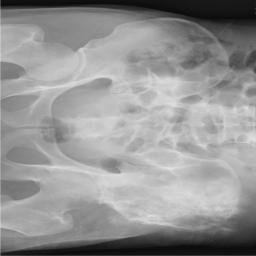cancer: (88, 188, 253, 249)
